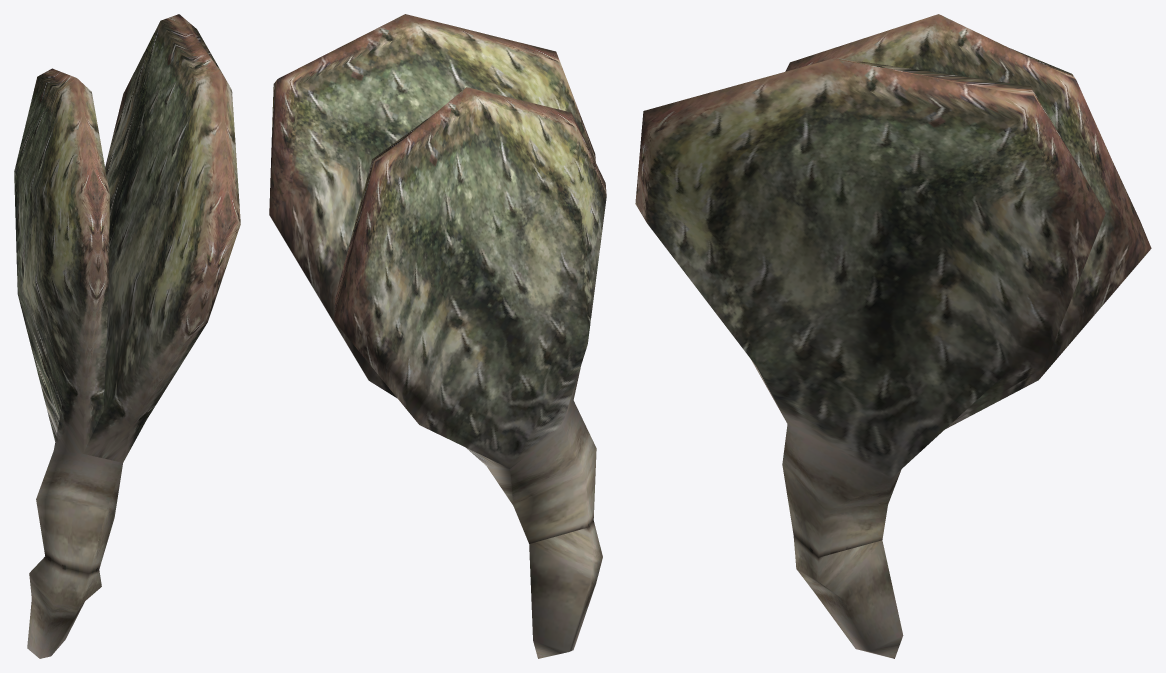
Rendered from succ_lok_hairmay_cactus_a1_l0.fbx.
3 views of the same model, side by side, from view 1: azimuth 30°, elevation 25°; view 2: azimuth 150°, elevation 25°; view 3: azimuth 270°, elevation 25° (orthographic). The views are drawn at different scales.
Visible parts, largest first — view 1: mesh_node; view 2: mesh_node; view 3: mesh_node.
Boxes of the visible parts, x1,y1,x2,y2 form: mesh_node: (14,14,240,658); mesh_node: (269,14,606,658); mesh_node: (635,14,1151,658).
Size of the model in its own units: 0.7489 by 1.69 by 1.14.
Materials: 1 (1 with a texture image).
